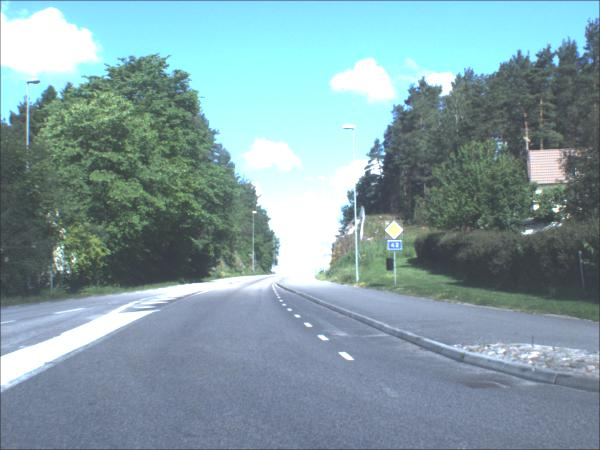PRIORITY_ROAD: (386, 221, 405, 241)
